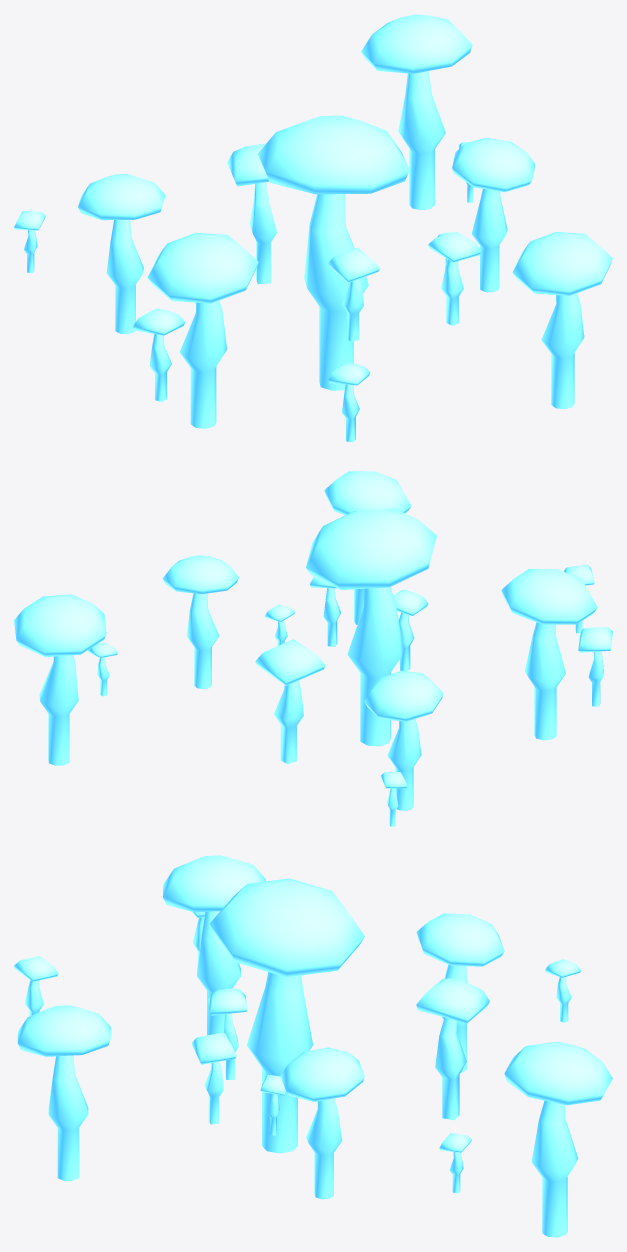
Rendered from MushroomMany.glb.
The picture shows the model from 3 angles, top to bottom: view 1: azimuth 30°, elevation 25°; view 2: azimuth 150°, elevation 25°; view 3: azimuth 270°, elevation 25°; orthographic projection. The views are drawn at different scales.
Parts seen in each view (by area): view 1: MushroomMany; view 2: MushroomMany; view 3: MushroomMany.
Part boxes in pixels (x1=…): MushroomMany: x1=14, y1=14, x2=612, y2=442; MushroomMany: x1=14, y1=471, x2=612, y2=826; MushroomMany: x1=14, y1=855, x2=612, y2=1237.
Size of the model in its own units: 16.07 by 7.83 by 16.62.
